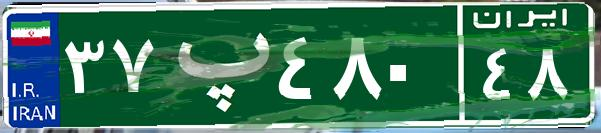0: (385, 28, 445, 110)
3: (57, 26, 110, 107)
4: (273, 28, 330, 110), (475, 38, 525, 113)
7: (110, 28, 158, 105)
8: (330, 28, 385, 110), (525, 38, 570, 115)
پ: (158, 15, 273, 115)
